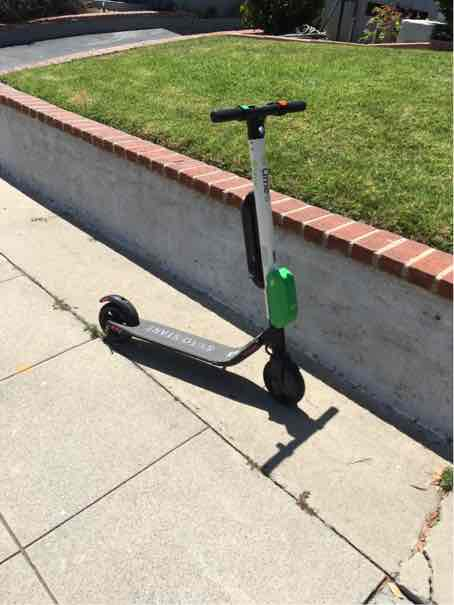scooter: (81, 90, 322, 421)
